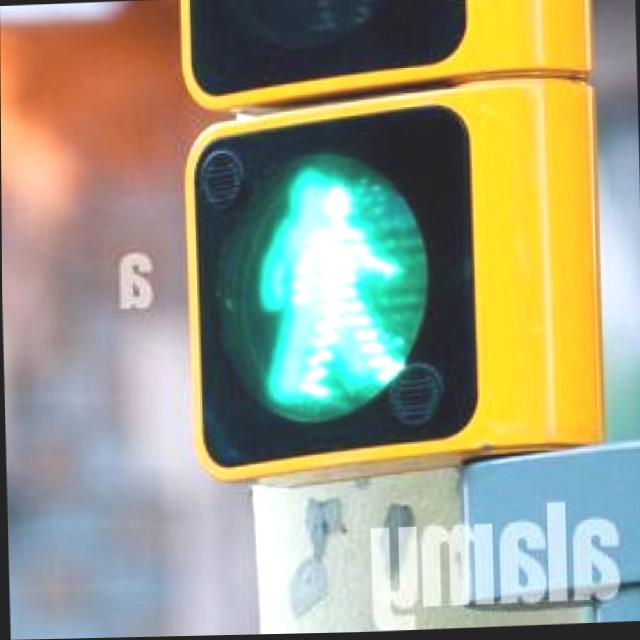green_light: (265, 140, 430, 402)
